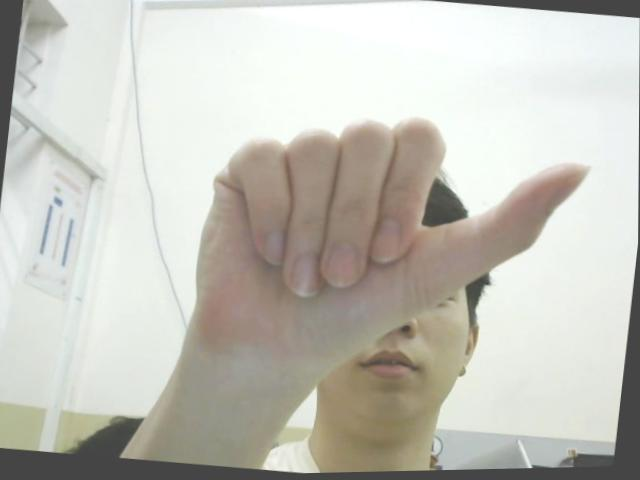A: (188, 88, 596, 376)
